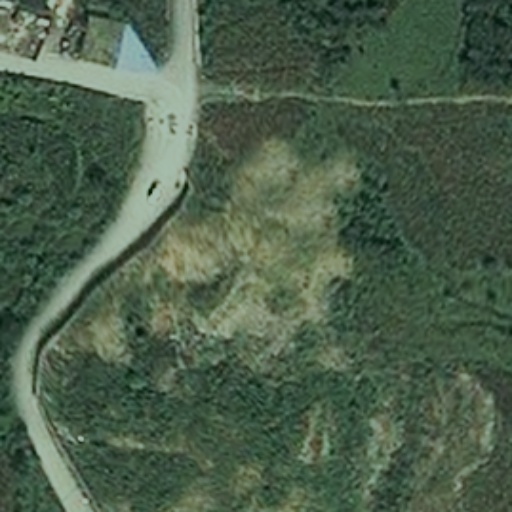landslide: (93, 142, 361, 368)
